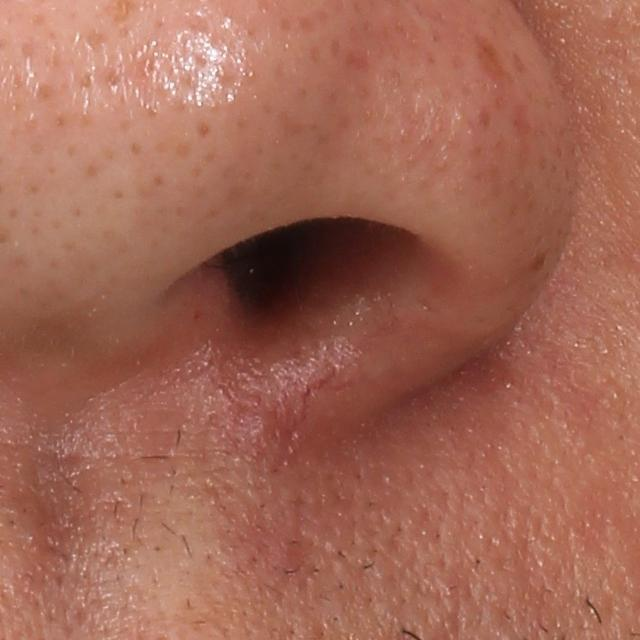melasma: (473, 32, 514, 85)
nevus: (530, 252, 547, 270)
